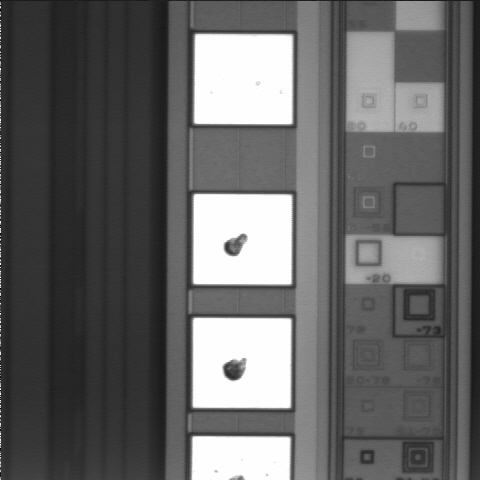pad: (194, 34, 293, 124), (193, 194, 292, 284), (193, 318, 291, 408)
